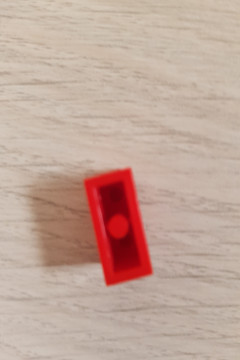1x2 red: (75, 164, 162, 288)
